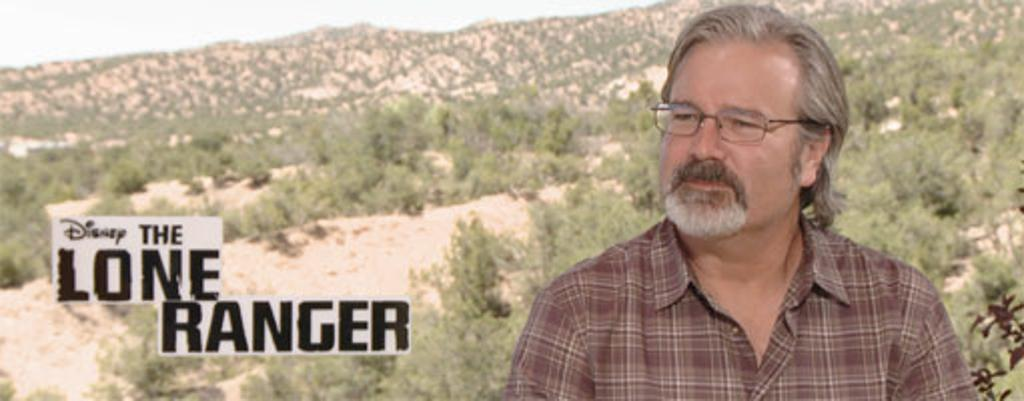face: (665, 35, 803, 231)
